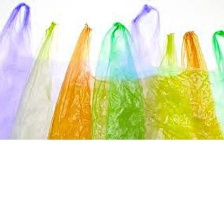plastic_bag: (0, 1, 166, 142), (44, 16, 224, 141), (11, 20, 179, 141), (91, 15, 223, 140)
